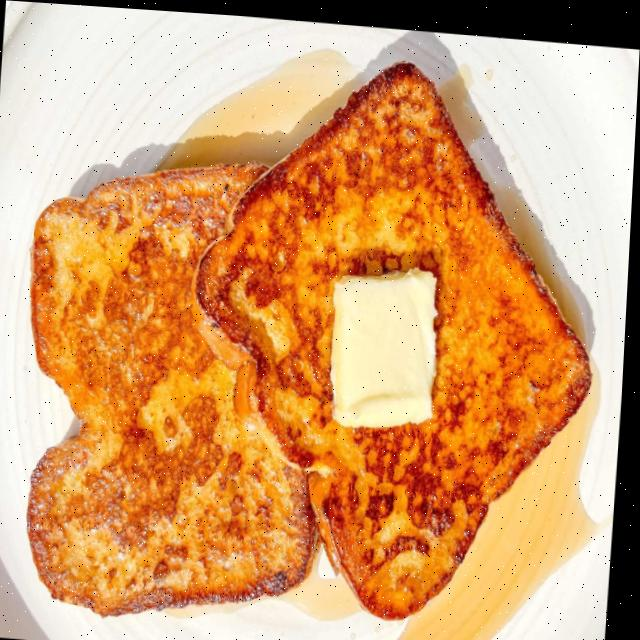Bread: (199, 56, 593, 613), (33, 159, 322, 612)
